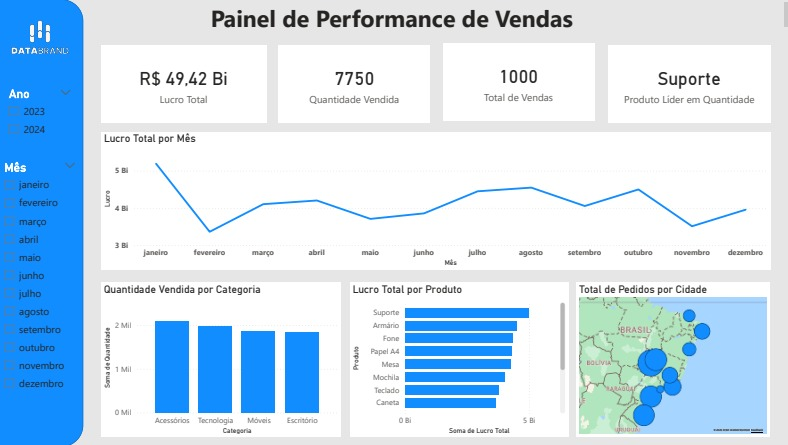

Layout of this report page (visuals, bound fields, positions):
{"tool":"powerbi","page":{"name":"Página 1","canvas":[1280,720],"ordinal":0},"visuals":[{"type":"shape","box":[0,0,1280,720],"z":0},{"type":"shape","box":[0,0,140,720],"z":1000},{"type":"card","title":"Lucro Total","fields":{"Values":["Sum(vendas.Lucro Total)"]},"box":[168,74,266,124],"z":2000},{"type":"card","fields":{"Values":["Sum(vendas.Quantidade)"]},"box":[454,74,244,124],"z":3000},{"type":"columnChart","title":"Quantidade Vendida por Categoria","fields":{"Category":["vendas.Categoria"],"Y":["Sum(vendas.Quantidade)"]},"box":[168.3,455,385,248.3],"z":4000},{"type":"lineChart","title":"Lucro Total por Mês","fields":{"Category":["vendas.Data.Variation.Hierarquia de datas.Mês"],"Y":["Sum(vendas.Lucro Total)"]},"box":[168.3,213.3,1076.7,221.7],"z":5000},{"type":"slicer","fields":{"Values":["vendas.Data.Variation.Hierarquia de datas.Mês"]},"box":[0,254.4,140,450],"z":6000},{"type":"card","fields":{"Values":["CountNonNull(vendas.Pedido_ID)"]},"box":[718,72,244,124],"z":7000},{"type":"card","fields":{"Values":["vendas.Produto Mais Vendido"]},"box":[984,74,262,124],"z":8000},{"type":"azureMap","title":"Total de Pedidos por Cidade","fields":{"Size":["CountNonNull(vendas.Pedido_ID)"],"Category":["vendas.Cidade"]},"box":[933.3,455,311.7,248.3],"z":9000},{"type":"clusteredBarChart","title":"Lucro Total por Produto","fields":{"Y":["Sum(vendas.Lucro Total)"],"Category":["vendas.Produto"]},"box":[568.3,455,351.7,248.3],"z":10000},{"type":"slicer","fields":{"Values":["vendas.Data.Variation.Hierarquia de datas.Ano"]},"box":[6.7,135.6,125.6,105.6],"z":11000},{"type":"textbox","box":[0,0,1280,54],"z":12000},{"type":"image","box":[0,0,140,136],"z":13000}]}

Visuals, with their boxes in screenshot pixels (x1, y1, x2, y2), scaled from the page's 1280x720 canvas onto the 788x445 screenshot:
shape: 0/0/787/444
shape: 0/0/86/444
"Lucro Total" card: 103/46/267/122
card - Sum(vendas.Quantidade): 279/46/430/122
"Quantidade Vendida por Categoria" columnChart: 104/281/341/435
"Lucro Total por Mês" lineChart: 104/132/766/269
slicer - vendas.Data.Variation.Hierarquia de datas.Mês: 0/157/86/435
card - CountNonNull(vendas.Pedido_ID): 442/44/592/121
card - vendas.Produto Mais Vendido: 606/46/767/122
"Total de Pedidos por Cidade" azureMap: 575/281/766/435
"Lucro Total por Produto" clusteredBarChart: 350/281/566/435
slicer - vendas.Data.Variation.Hierarquia de datas.Ano: 4/84/81/149
textbox: 0/0/787/33
image: 0/0/86/84
